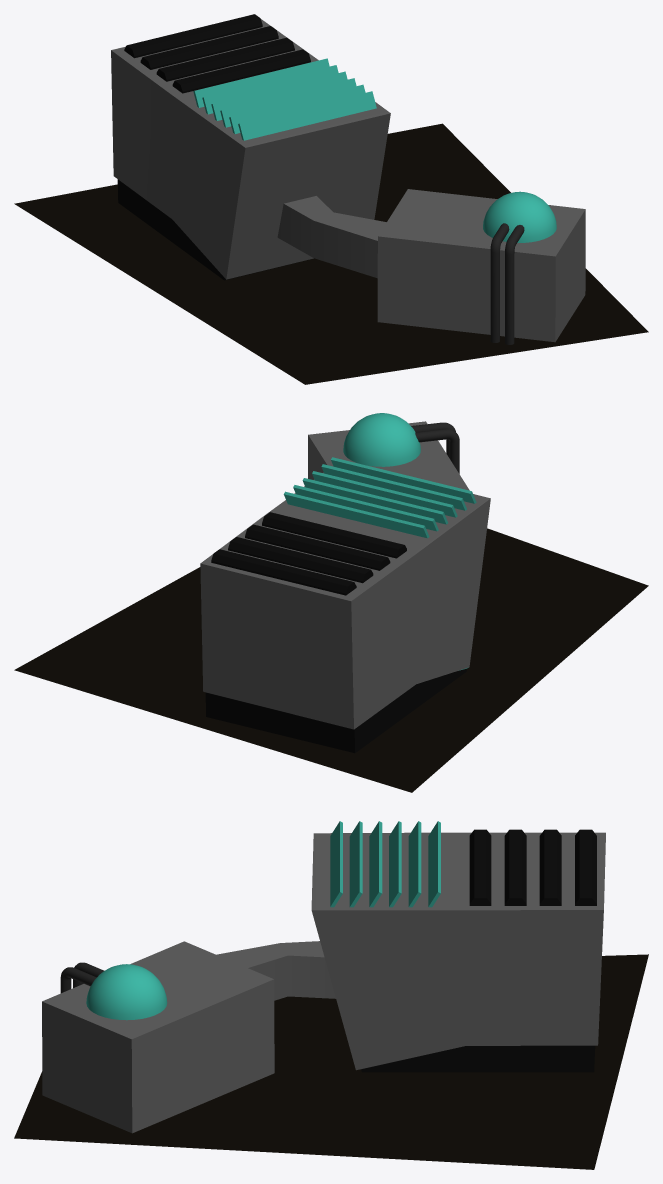
The model's file is Model_Laboratorio.FBX.
3 renders of one model, top to bottom at view 1: azimuth 30°, elevation 25°; view 2: azimuth 150°, elevation 25°; view 3: azimuth 270°, elevation 25°, orthographic. The views are drawn at different scales.
Parts seen in each view (by area): view 1: Laboratorio; view 2: Laboratorio; view 3: Laboratorio.
Part boxes in pixels (bbox=[...]): Laboratorio: bbox=[14, 14, 648, 384]; Laboratorio: bbox=[14, 413, 648, 792]; Laboratorio: bbox=[14, 821, 648, 1169].
Bounding box in the file's own units: 640 × 248 × 797.
